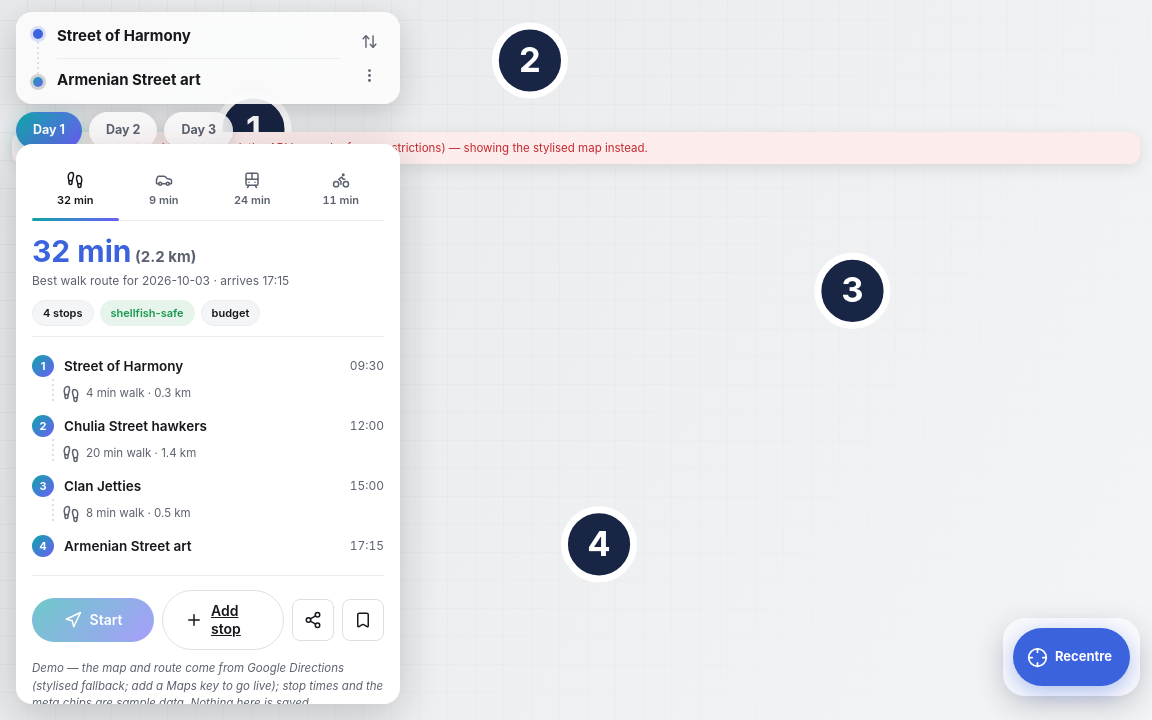
DemoMap route screen (no Maps key → fallback chrome) › switches the routed day from the day chips
Click the tab "Day 3": (199, 130) [164,112,233,149]
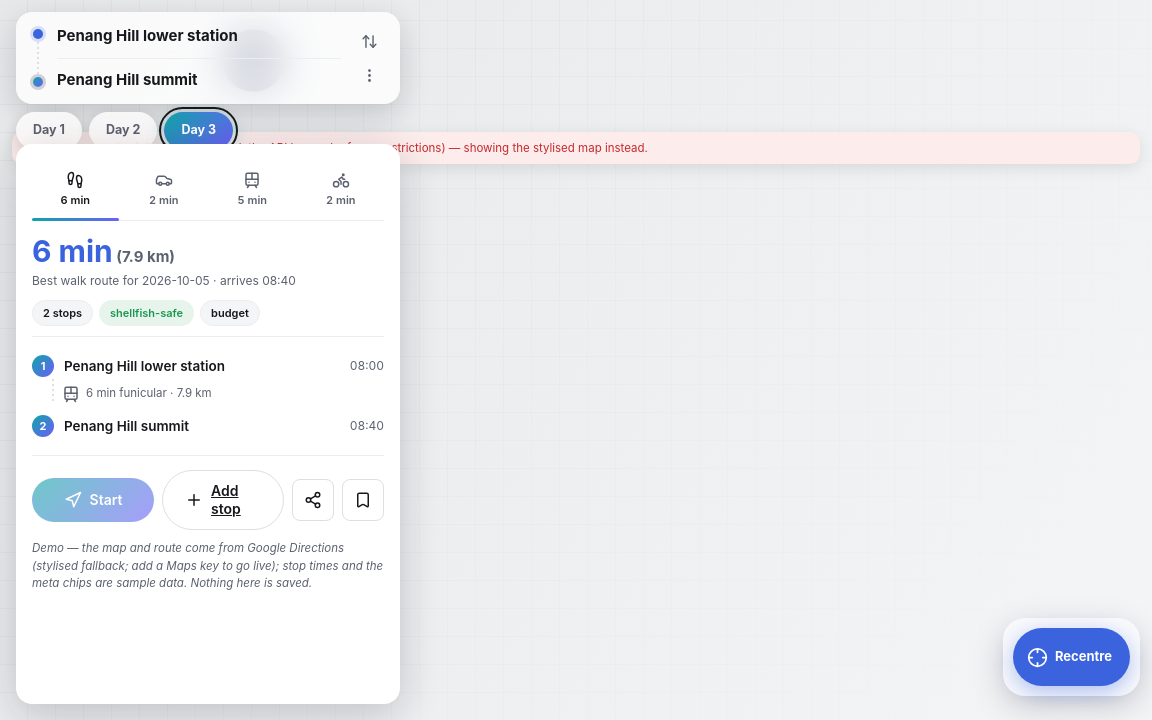
Check: the text "Penang Hill lower station" next to "08:00" is shown, box [64,358,225,374]
Check: the text "Penang Hill summit" below "funicular" is shown, box [64,418,189,434]
Check: the text "Street of Harmony" is gone
